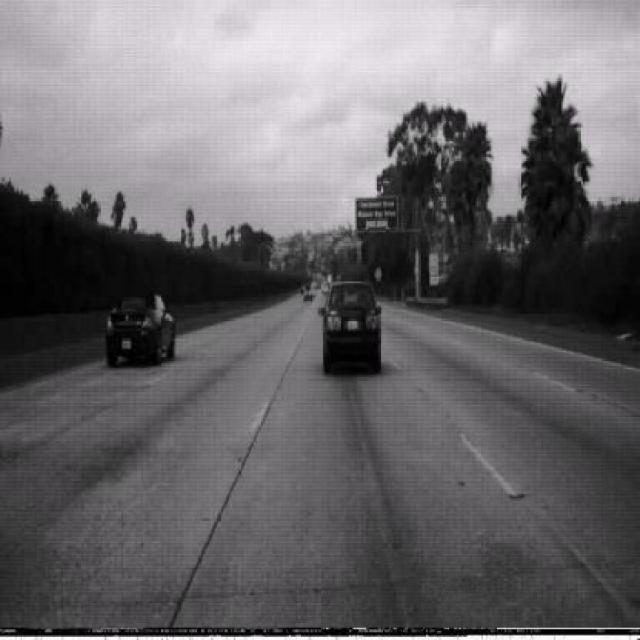truckSpeedLimit55: (429, 252, 438, 276)
